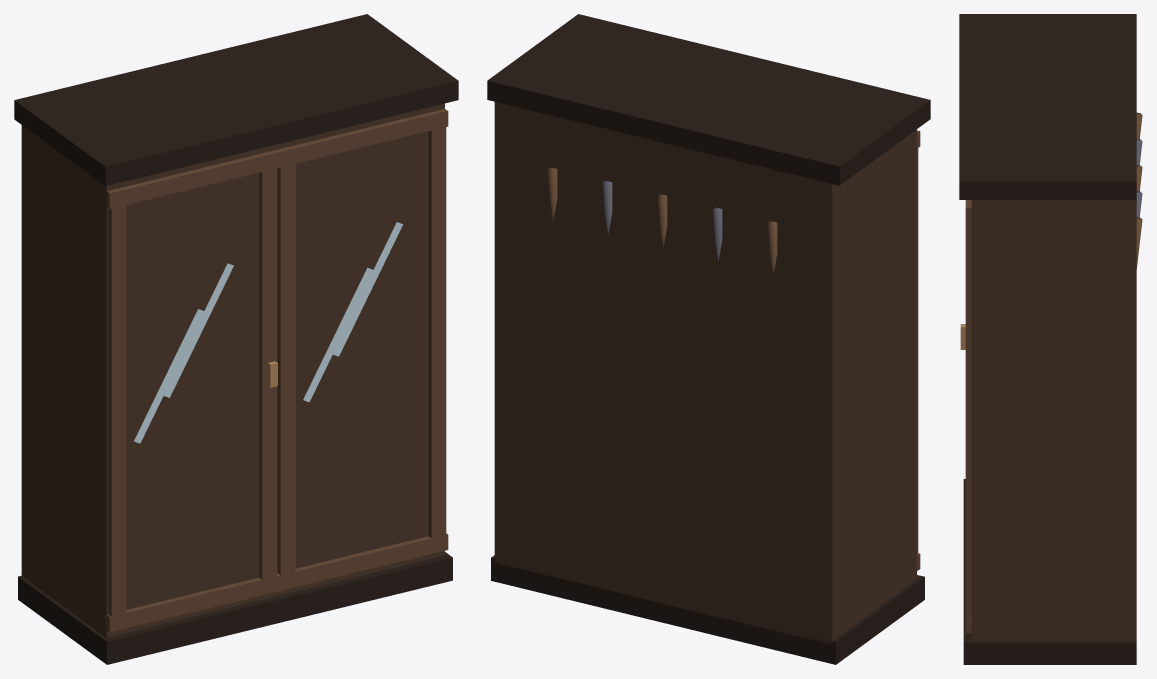
Rendered from cabinet_glass.glb.
The picture shows the model from 3 angles, left to right: view 1: azimuth 30°, elevation 25°; view 2: azimuth 150°, elevation 25°; view 3: azimuth 270°, elevation 25°; orthographic projection. The views are drawn at different scales.
Visible parts, largest first — view 1: cabinet_glass; view 2: cabinet_glass; view 3: cabinet_glass.
Part boxes in pixels (x1,y1,x2,y2): cabinet_glass: (14, 14, 458, 664); cabinet_glass: (487, 14, 930, 664); cabinet_glass: (959, 14, 1142, 664).
Bounding box in the file's own units: 0.96 × 1.3 × 0.4444.
